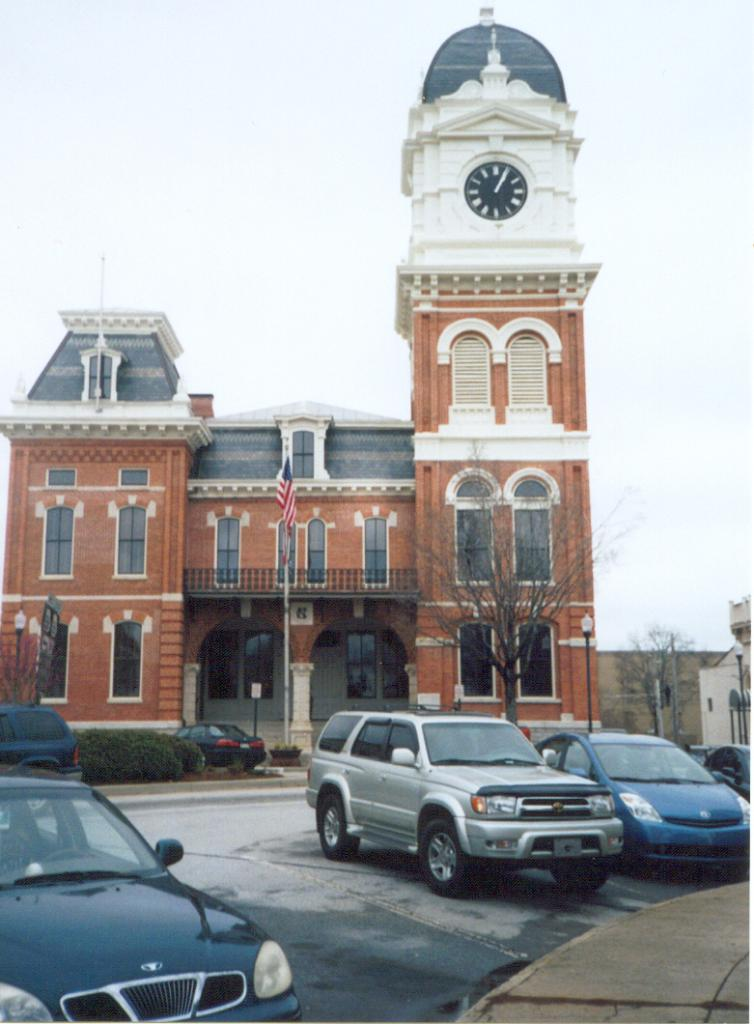Car: (0, 766, 305, 1023), (294, 703, 643, 888), (540, 731, 753, 874), (170, 716, 266, 763), (698, 738, 753, 801)
